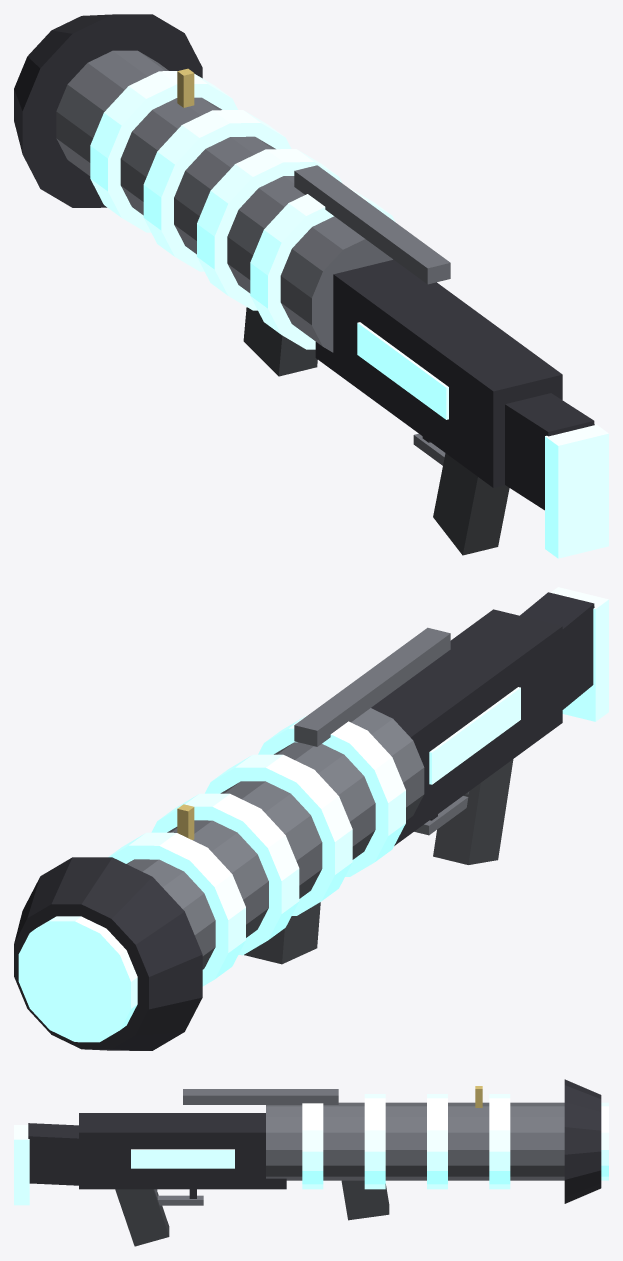
The model's file is shockwave_launcher.glb.
The picture shows the model from 3 angles, top to bottom: view 1: azimuth 30°, elevation 25°; view 2: azimuth 150°, elevation 25°; view 3: azimuth 270°, elevation 25°; orthographic projection. The views are drawn at different scales.
Visible parts, largest first — view 1: ShockwaveLauncher; view 2: ShockwaveLauncher; view 3: ShockwaveLauncher.
Boxes of the visible parts, x1=… form: ShockwaveLauncher: x1=14, y1=14, x2=608, y2=558; ShockwaveLauncher: x1=14, y1=587, x2=608, y2=1050; ShockwaveLauncher: x1=14, y1=1079, x2=608, y2=1246.
Size of the model in its own units: 0.234 by 0.3322 by 1.14.
